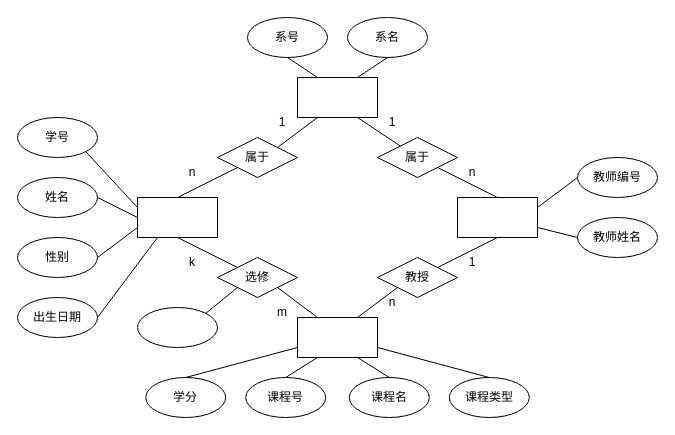
This 675x435 diagram has some shape labels left out. Each missing label, with the centre of its shape:
"学生" belongs at point (177, 217).
"成绩" belongs at point (177, 327).
"教师" belongs at point (497, 217).
"课程" belongs at point (337, 337).
"院系" belongs at point (337, 97).
